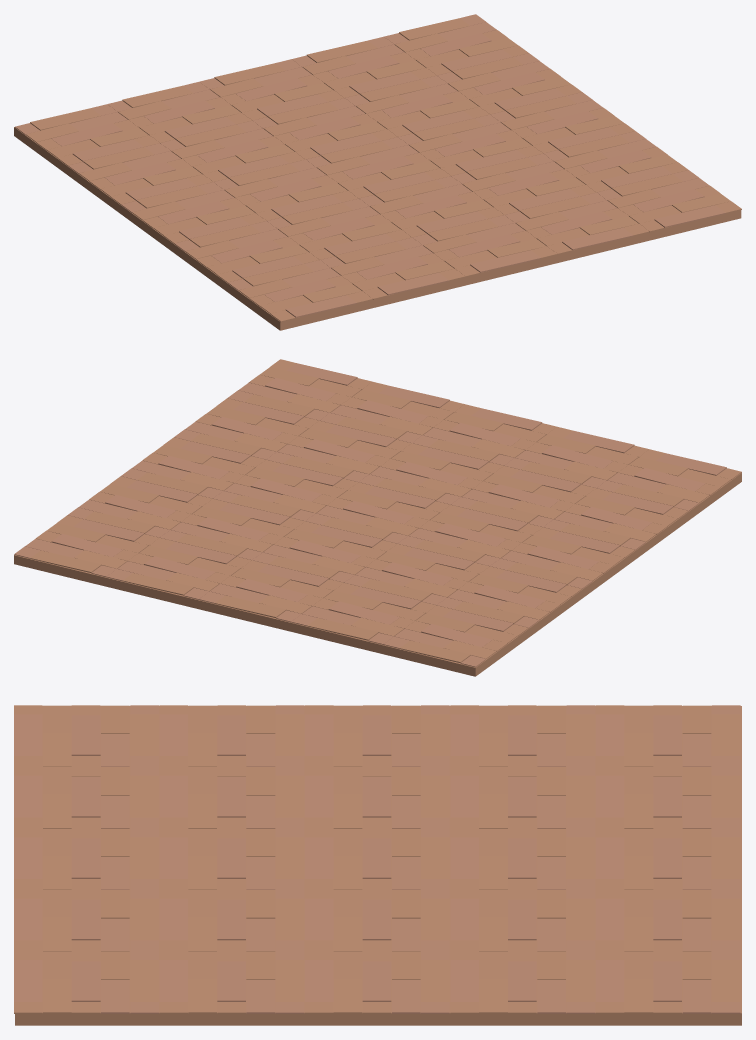
The model's file is SolV2_01.fbx.
3 renders of one model, top to bottom at view 1: azimuth 30°, elevation 25°; view 2: azimuth 150°, elevation 25°; view 3: azimuth 270°, elevation 25°, orthographic. The views are drawn at different scales.
Parts seen in each view (by area): view 1: Cube.009; view 2: Cube.009; view 3: Cube.009.
Boxes of the visible parts, x1=… form: Cube.009: x1=14, y1=14, x2=741, y2=330; Cube.009: x1=14, y1=359, x2=741, y2=676; Cube.009: x1=14, y1=705, x2=741, y2=1025.
Size of the model in its own units: 1001 by 21.92 by 1001.
